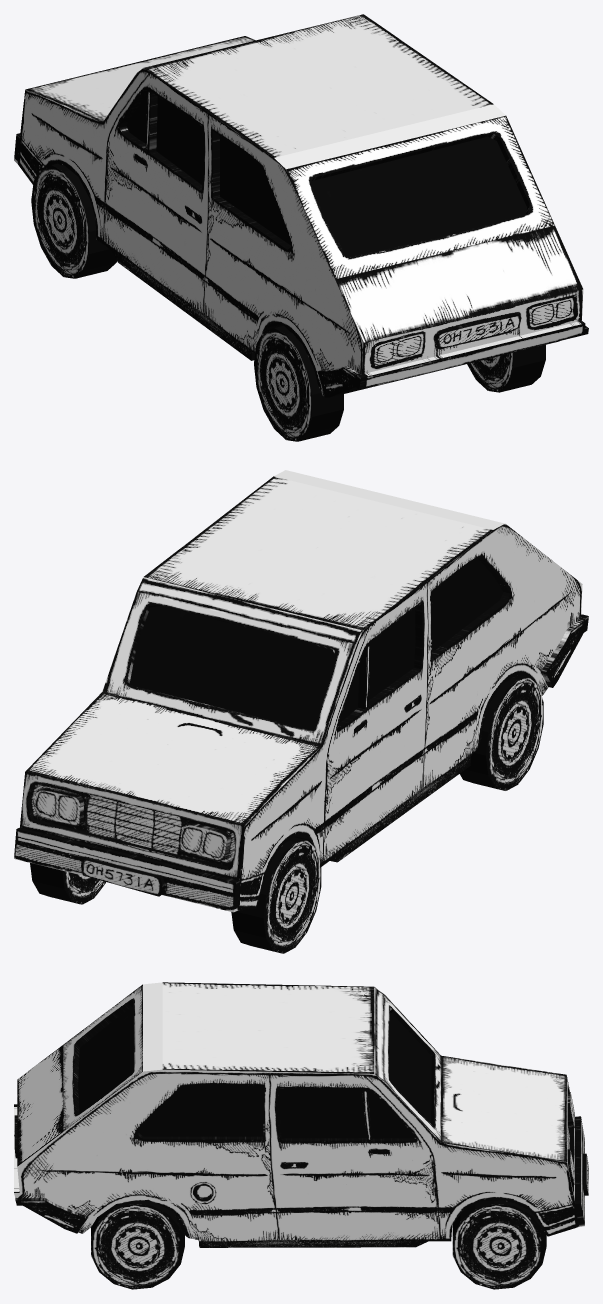
Rendered from car1.obj.
3 views of the same model, one above another, from view 1: azimuth 30°, elevation 25°; view 2: azimuth 150°, elevation 25°; view 3: azimuth 270°, elevation 25° (orthographic). The views are drawn at different scales.
Visible parts, largest first — view 1: Plane, Plane.003, Plane.002, Plane.004; view 2: Plane, Plane.002, Plane.003, Plane.001; view 3: Plane, Plane.001, Plane.004.
Part boxes in pixels (x1,y1,x2,y2): Plane: [14, 14, 588, 397]; Plane.003: [254, 325, 343, 441]; Plane.002: [31, 163, 116, 278]; Plane.004: [467, 345, 545, 392]; Plane: [14, 470, 588, 912]; Plane.002: [231, 837, 321, 953]; Plane.003: [460, 675, 543, 790]; Plane.001: [30, 863, 105, 904]; Plane: [14, 982, 588, 1247]; Plane.001: [452, 1200, 546, 1289]; Plane.004: [91, 1199, 184, 1289].
Bounding box in the file's own units: 1.33 × 1.45 × 3.48.
5 materials, 5 textured.
